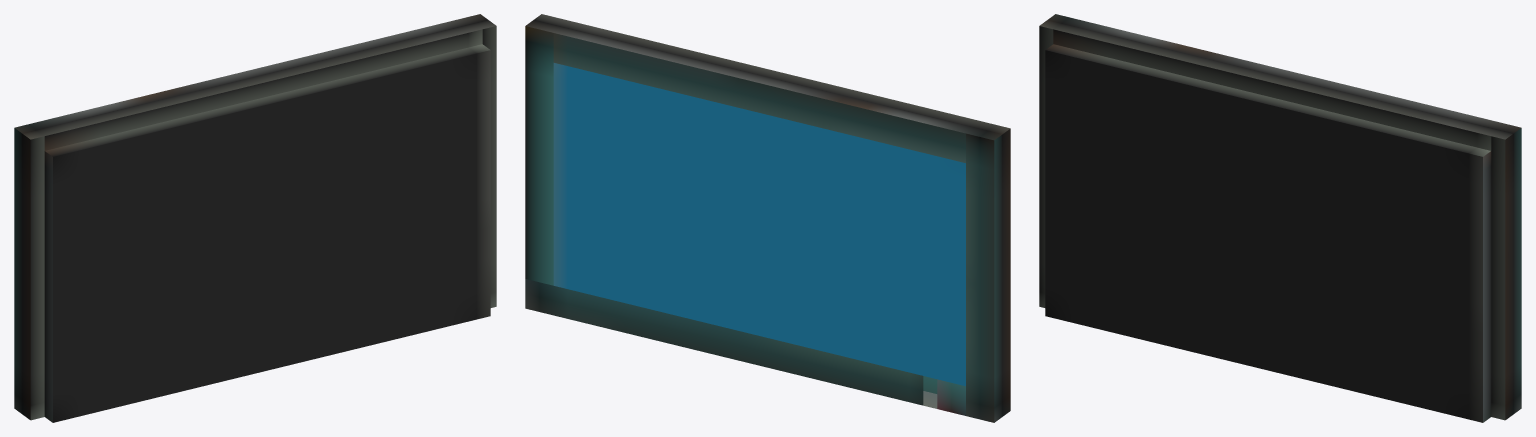
The model's file is TVWallMount_00.obj.
The picture shows the model from 3 angles, left to right: view 1: azimuth 30°, elevation 25°; view 2: azimuth 150°, elevation 25°; view 3: azimuth 330°, elevation 25°; orthographic projection.
Parts seen in each view (by area): view 1: TVWallMount_00; view 2: TVWallMount_00; view 3: TVWallMount_00.
Part boxes in pixels (box(x1,y1,x2,y2)): TVWallMount_00: box(14, 14, 496, 422); TVWallMount_00: box(525, 14, 1010, 422); TVWallMount_00: box(1039, 14, 1521, 422).
Size of the model in its own units: 1.65 by 0.95 by 0.15.
